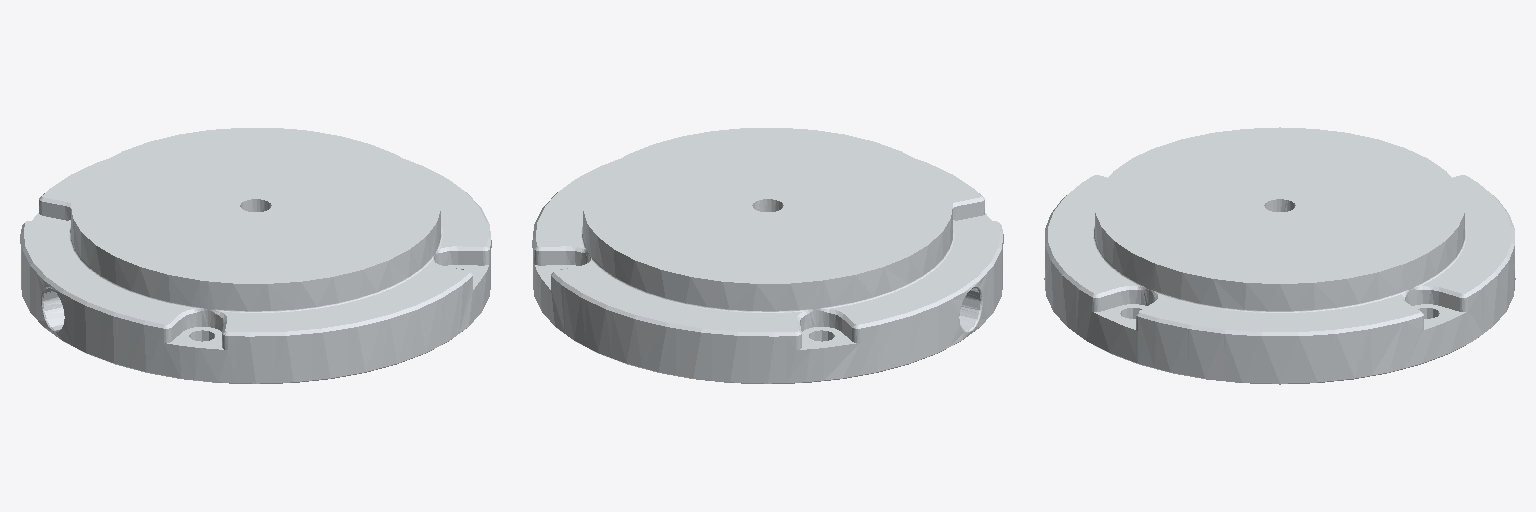
robot.urdf — ec66:
<?xml version="1.0" encoding="utf-8"?>
<robot name="ec66">
  <link name="world" />
  <joint name="world_joint" type="fixed">
    <origin xyz="0 0 0" rpy="0 0 0" />
    <parent link="world" />
    <child link="base_link" />
  </joint>
  <link name="base_link">
  <inertial>
    <origin xyz="0.00039768 8.0247E-10 0.012605" rpy="0 0 0" />
    <mass value="0.41542" />
    <inertia ixx="0.00054632" ixy="-4.5067E-09" ixz="5.9528E-07" iyy="0.00053741" iyz="-3.5275E-10" izz="0.0010336" />
  </inertial>
  <visual>
    <origin xyz="0 0 0" rpy="0 0 0" />
    <geometry>
      <mesh filename="package://elite_description/meshes/ec66/base_link.STL" />
    </geometry>
    <material name="">
      <color rgba="0.89412 0.91373 0.92941 1" />
    </material>
  </visual>
  <collision>
    <origin xyz="0 0 0" rpy="0 0 0" />
    <geometry>
      <mesh filename="package://elite_description/meshes/ec66/base_link.STL" />
    </geometry>
  </collision>
  </link>
  <link name="link1">
  <inertial>
    <origin xyz="-3.9337E-06 0.0082614 0.0028405" rpy="0 0 0" />
    <mass value="1.7827" />
    <inertia ixx="0.0031691" ixy="-1.2175E-07" ixz="2.8351E-08" iyy="0.0029334" iyz="-0.00037927" izz="0.0035086" />
  </inertial>
  <visual>
    <origin xyz="0 0 0" rpy="0 0 0" />
    <geometry>
      <mesh filename="package://elite_description/meshes/ec66/link1.STL" />
    </geometry>
    <material name="">
      <color rgba="1 1 1 1" />
    </material>
  </visual>
  <collision>
    <origin xyz="0 0 0" rpy="0 0 0" />
    <geometry>
      <mesh filename="package://elite_description/meshes/ec66/link1.STL" />
    </geometry>
  </collision>
  </link>
  <joint name="joint1" type="revolute">
    <origin xyz="0 0 0.096" rpy="0 0 0" />
    <parent link="base_link" />
    <child link="link1" />
    <axis xyz="0 0 1" />
    <limit lower="-6.2832" upper="6.2832" effort="150" velocity="2.6199" />
  </joint>
  <link name="link2">
  <inertial>
    <origin xyz="-3.9632E-06 0.010506 -0.0056292" rpy="0 0 0" />
    <mass value="3.5947" />
    <inertia ixx="0.01211" ixy="-1.906E-07" ixz="-5.9544E-08" iyy="0.011358" iyz="-0.0010317" izz="0.012021" />
  </inertial>
  <visual>
    <origin xyz="0 0 0" rpy="0 0 0" />
    <geometry>
      <mesh filename="package://elite_description/meshes/ec66/link2.STL" />
    </geometry>
    <material name="">
      <color rgba="1 1 1 1" />
    </material>
  </visual>
  <collision>
    <origin xyz="0 0 0" rpy="0 0 0" />
    <geometry>
      <mesh filename="package://elite_description/meshes/ec66/link2.STL" />
    </geometry>
  </collision>
  </link>
  <joint name="joint2" type="revolute">
    <origin xyz="0 0 0.185" rpy="0 0 0" />
    <parent link="link1" />
    <child link="link2" />
    <axis xyz="0 0 1" />
    <limit lower="-6.2832" upper="6.2832" effort="200" velocity="2.0944" />
  </joint>
</robot>

--- Facts derived from the render (not from the file) ---
The picture shows the robot from 3 angles, left to right: view 1: azimuth 30°, elevation 25°; view 2: azimuth 150°, elevation 25°; view 3: azimuth 270°, elevation 25°; orthographic projection.
Robot: ec66 — 4 links, 3 joints (2 revolute, 1 fixed); root link world; default pose: all joints at 0.
Visible links, largest first — view 1: base_link; view 2: base_link; view 3: base_link.
Link boxes in pixels (box(x1,y1,x2,y2)): base_link: box(20, 128, 491, 383); base_link: box(532, 128, 1003, 383); base_link: box(1044, 127, 1515, 384).
Size in the robot's own frame: 0.15 by 0.1499 by 0.028 metres.
Meshes: 3 distinct files referenced, 1 mesh visuals loaded (1 binary STL); not drawn: 2 (reference not matched to a file when rendering).